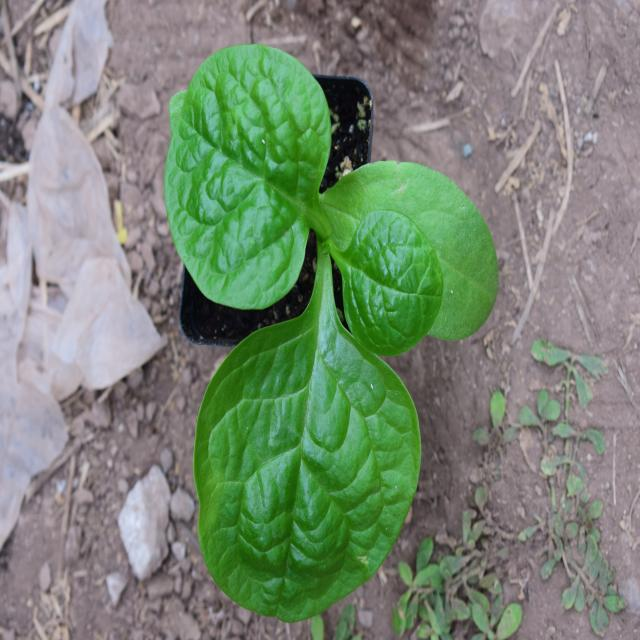Ceylon spinach: (180, 78, 481, 572)
